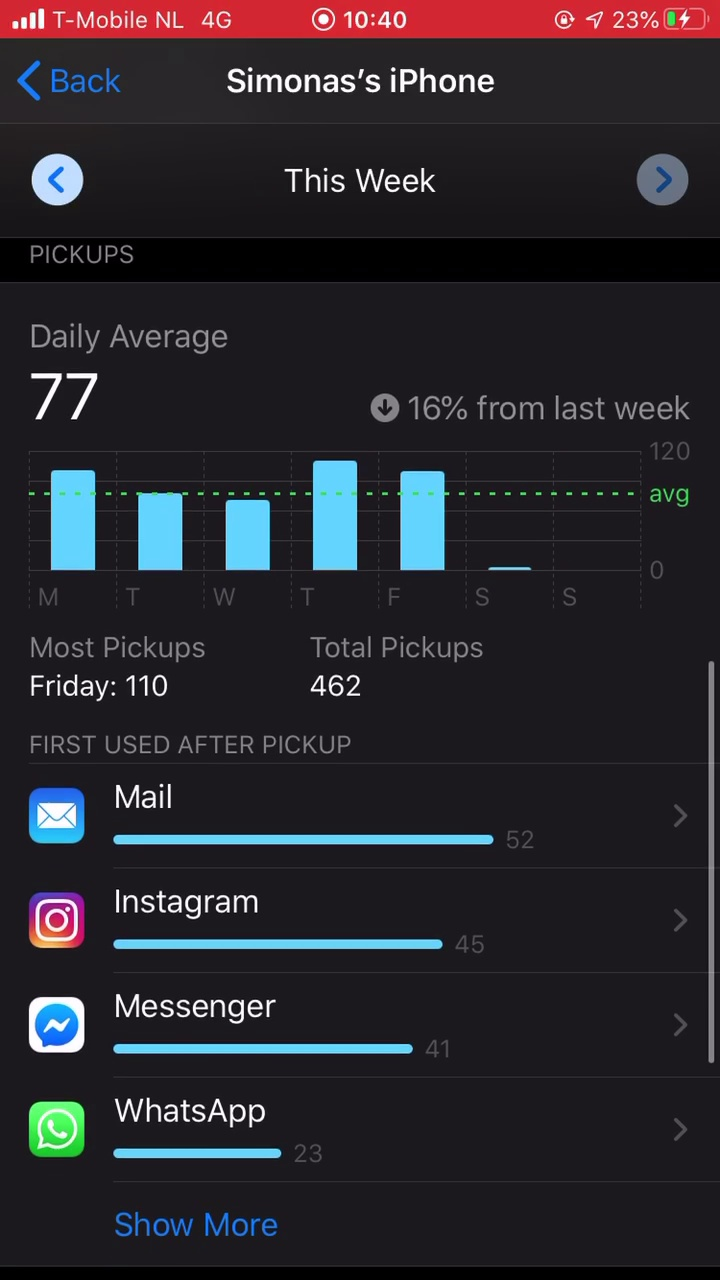pick_app: (15, 980, 567, 1071), (25, 875, 564, 964), (23, 775, 559, 864), (15, 1089, 575, 1174)
pick_over: (15, 628, 495, 710)
week: (266, 152, 466, 205)
